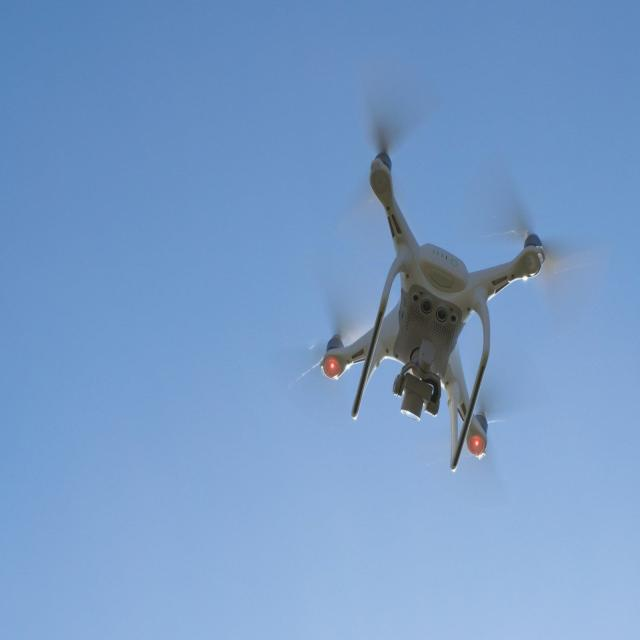drone: (300, 98, 557, 500)
